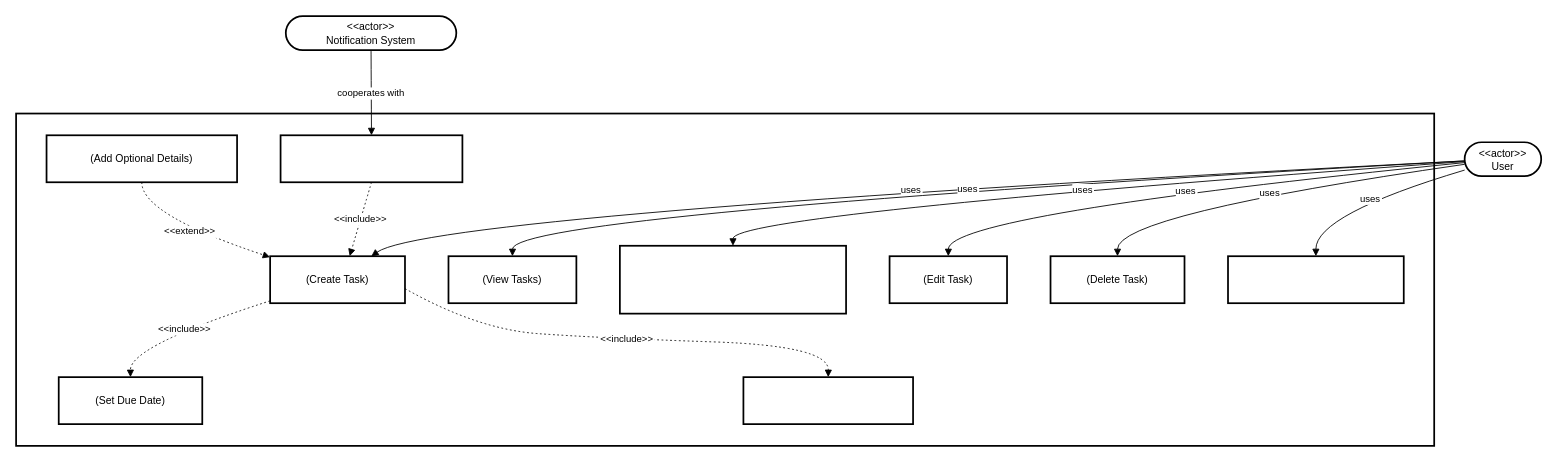
Some shapes in this 1556 by 461 pixel diagram are drawn without their labels. Here are the shapes that lost their labels. From the top down, the centre of each, then its label:
the point at 371,158: (Schedule Reminder)
the point at 733,279: (Filter by Category/Priority)
the point at 1315,279: (View Today's Tasks)
the point at 828,400: (Set Priority Level)
